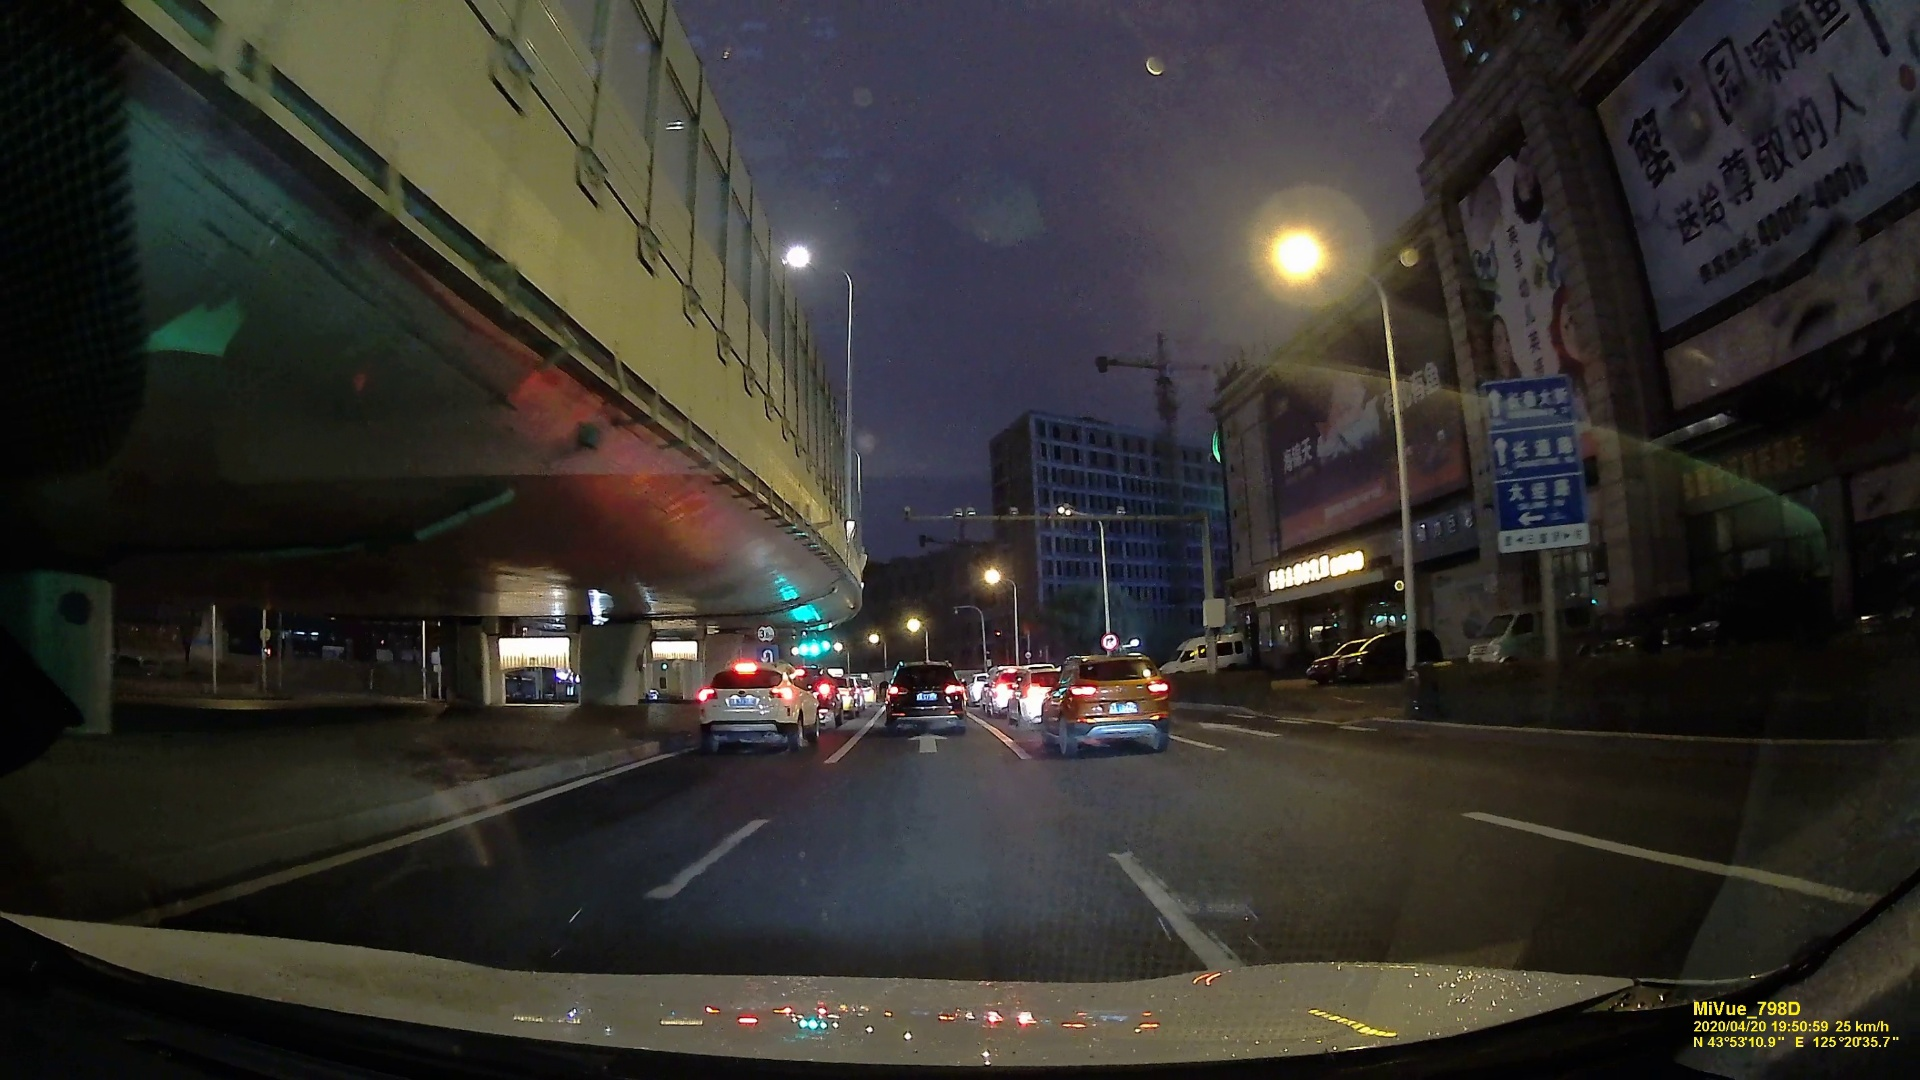minibus: (1472, 599, 1578, 670), (1160, 633, 1247, 675)
traffic_sign: (1487, 384, 1581, 556), (1102, 632, 1120, 650)
vehicle: (1040, 651, 1167, 752), (695, 665, 815, 752), (881, 659, 967, 735)
